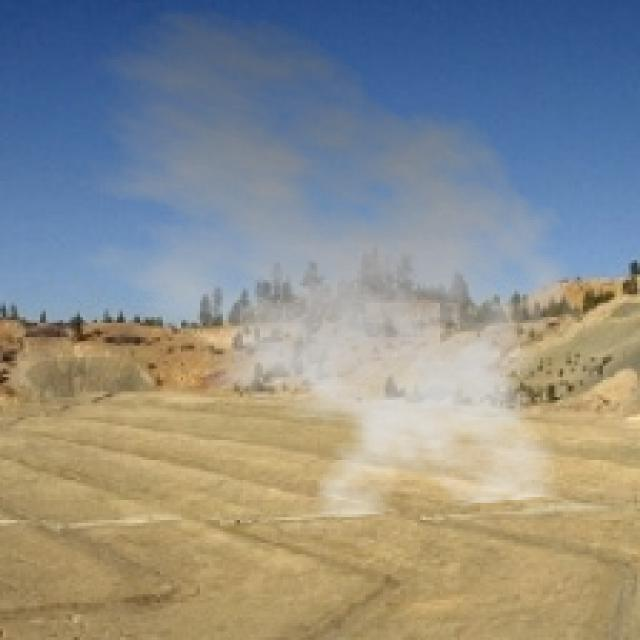Smoke: (40, 3, 600, 520)
